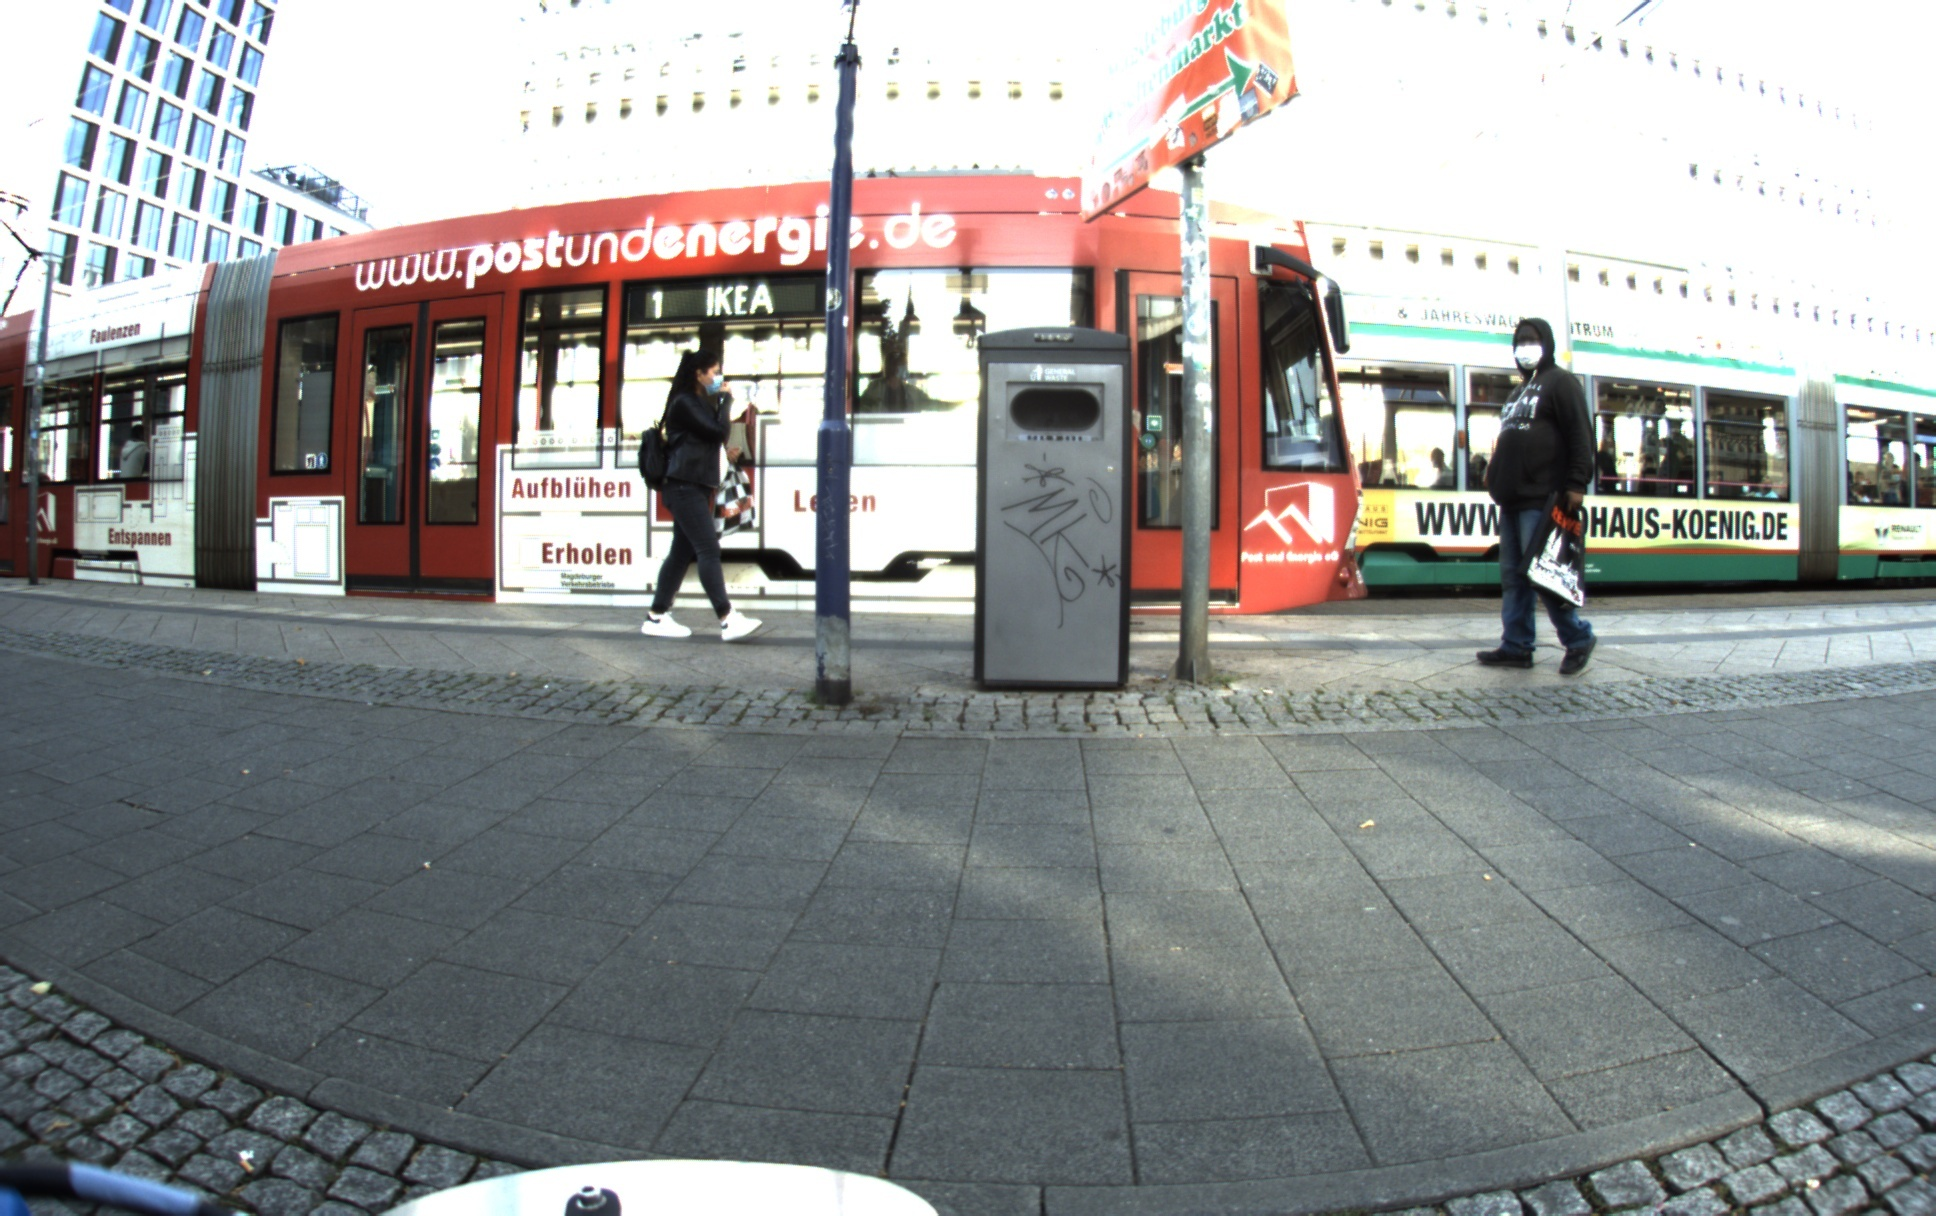adult without baby buggy or mobility support: (1478, 318, 1597, 676), (641, 349, 763, 639)
tram: (0, 178, 1360, 612), (1319, 285, 1932, 601)
